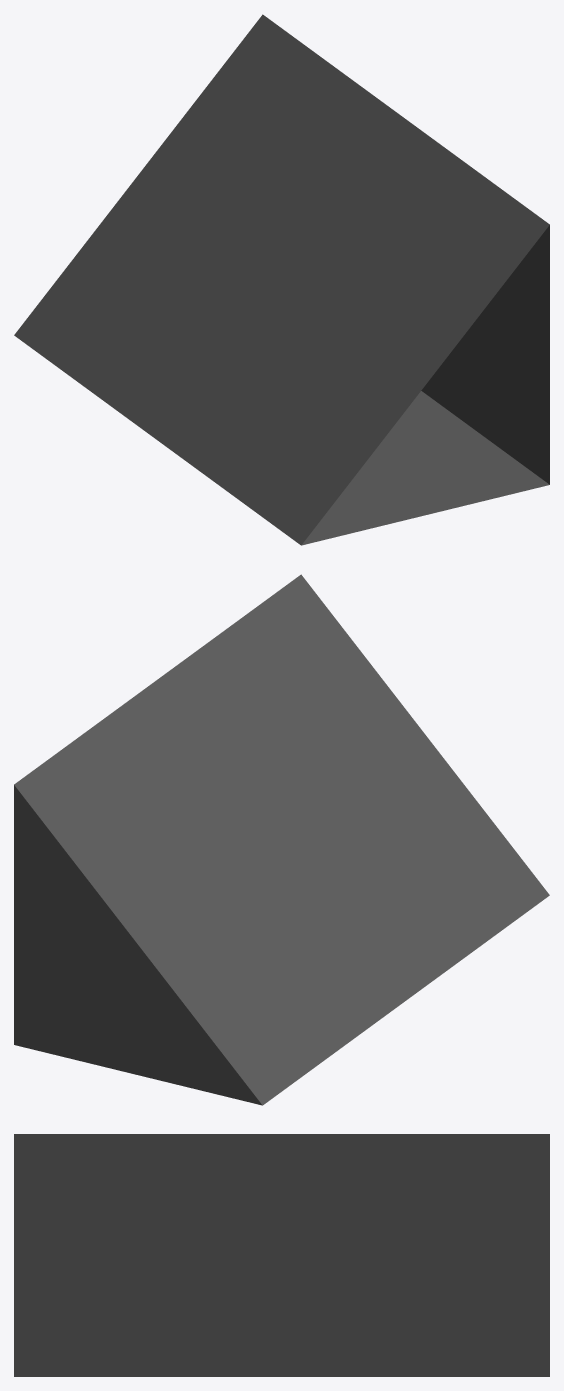
The model's file is SM_platform_triangle_1x1.fbx.
3 views of the same model, one above another, from view 1: azimuth 30°, elevation 25°; view 2: azimuth 150°, elevation 25°; view 3: azimuth 270°, elevation 25° (orthographic). The views are drawn at different scales.
Parts seen in each view (by area): view 1: SM_platform_triangle_1x1; view 2: SM_platform_triangle_1x1; view 3: SM_platform_triangle_1x1.
Part boxes in pixels (<box>): SM_platform_triangle_1x1: <box>14,14,549,545</box>; SM_platform_triangle_1x1: <box>14,574,549,1105</box>; SM_platform_triangle_1x1: <box>14,1134,549,1376</box>.
Size of the model in its own units: 150 by 150 by 300.
1 material, 1 textured.
